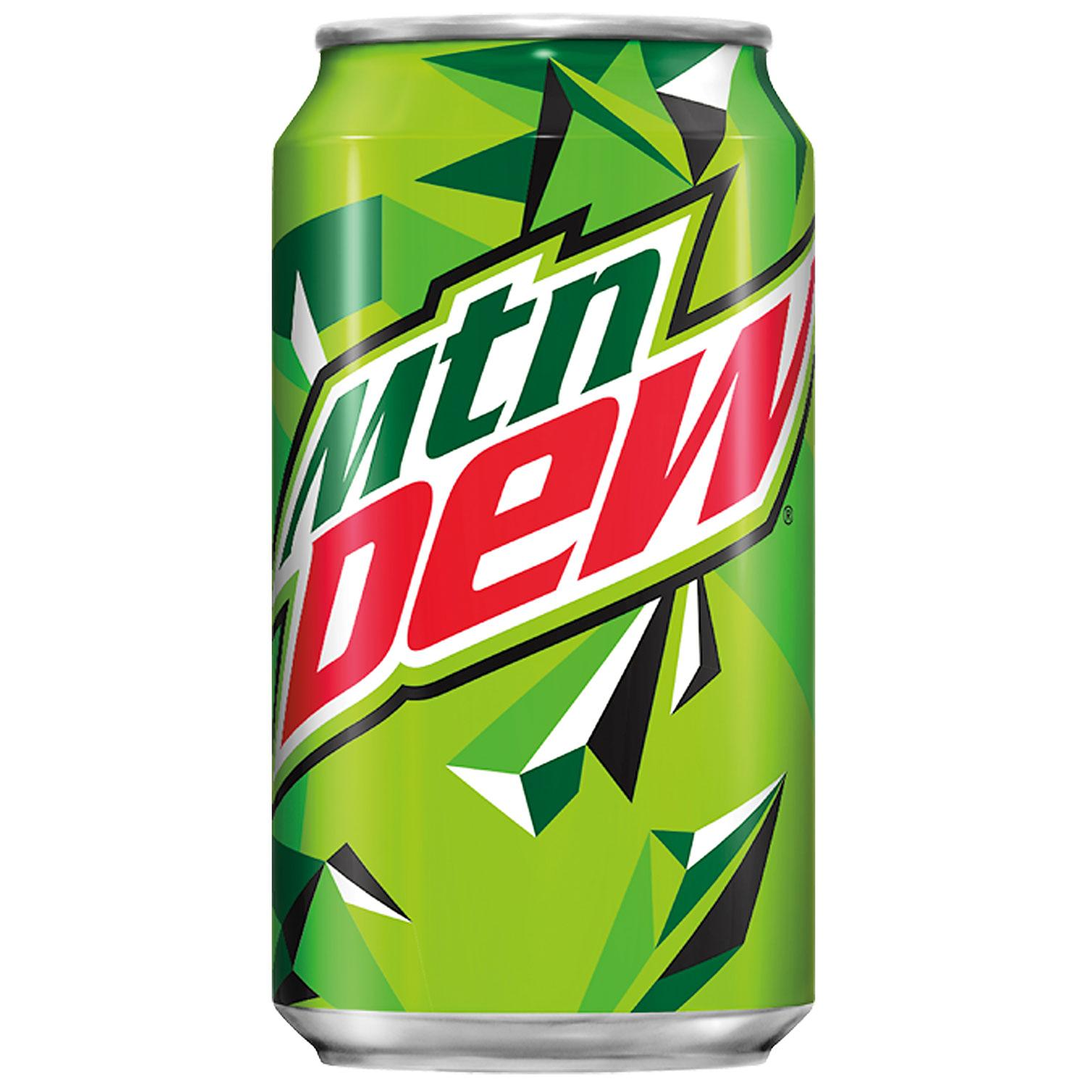cylinder: (272, 14, 816, 1074)
